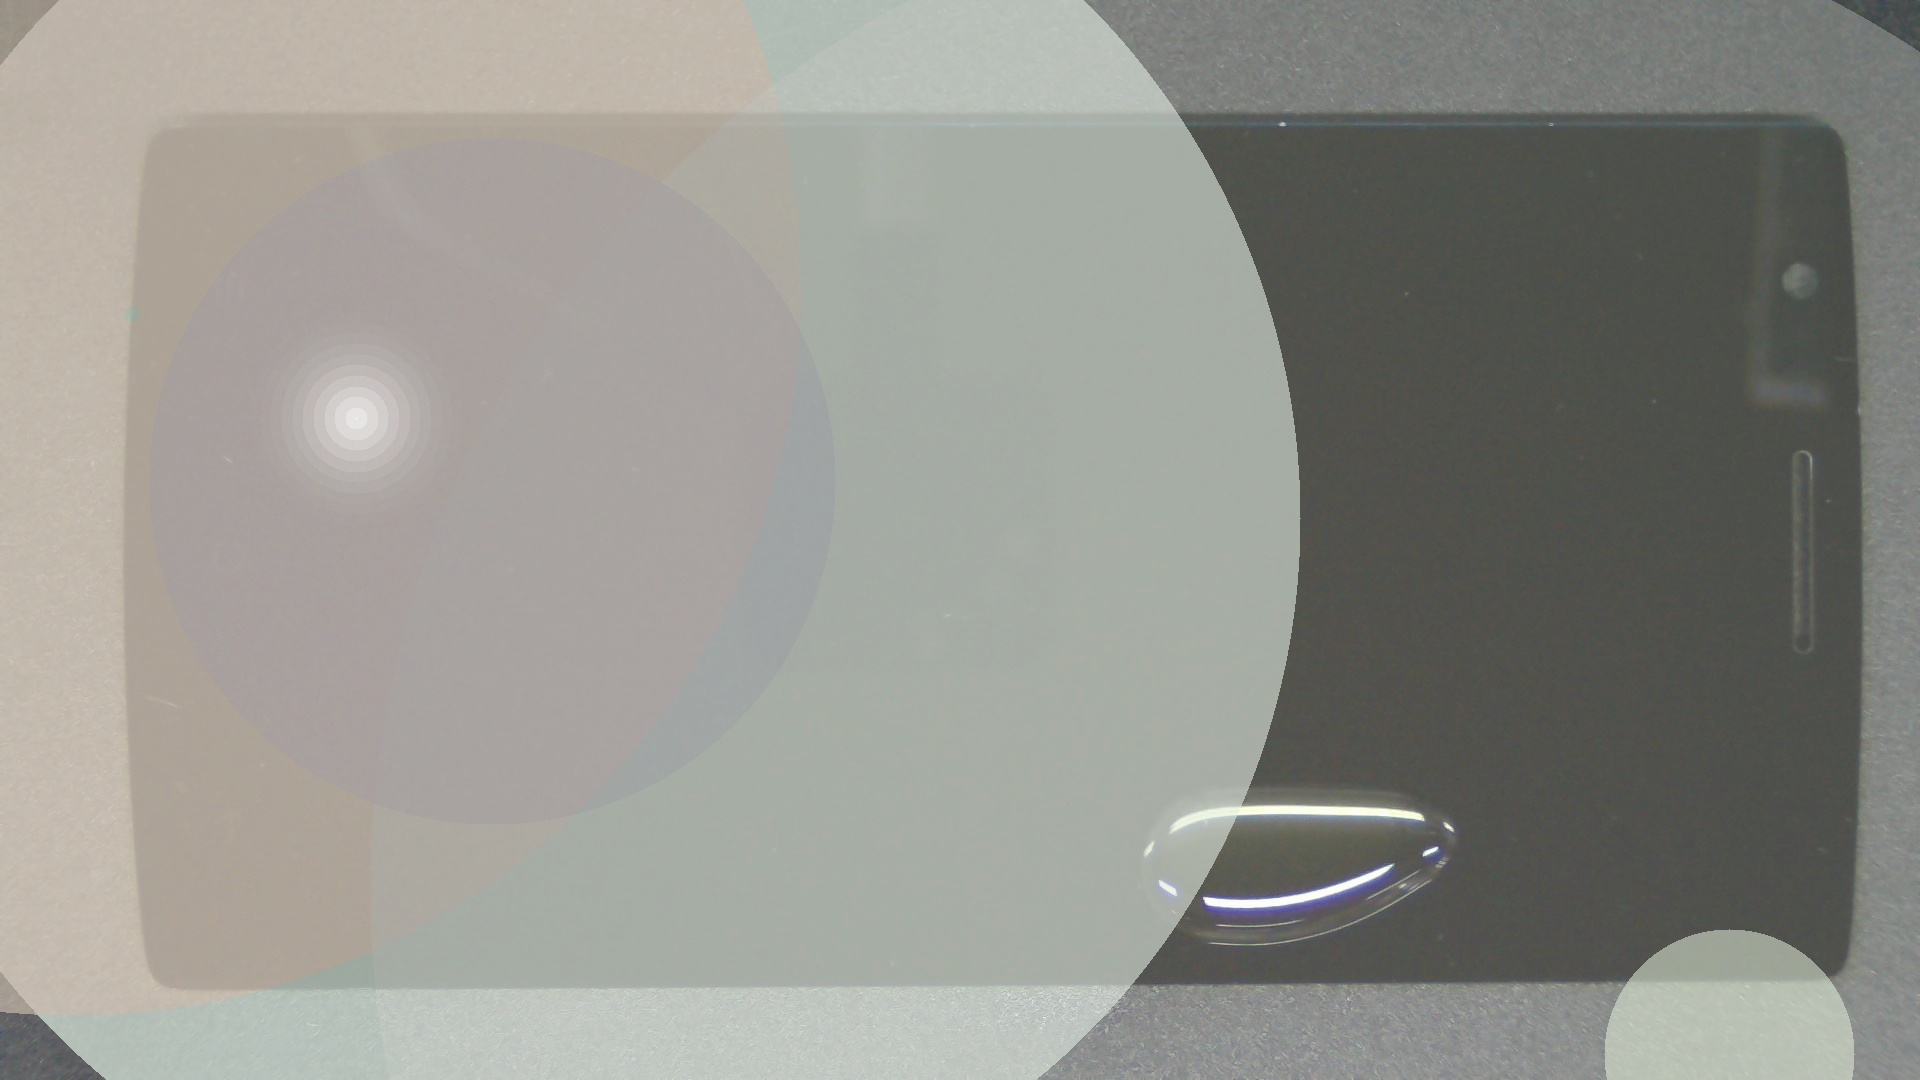oil: (621, 392, 1861, 1080)
